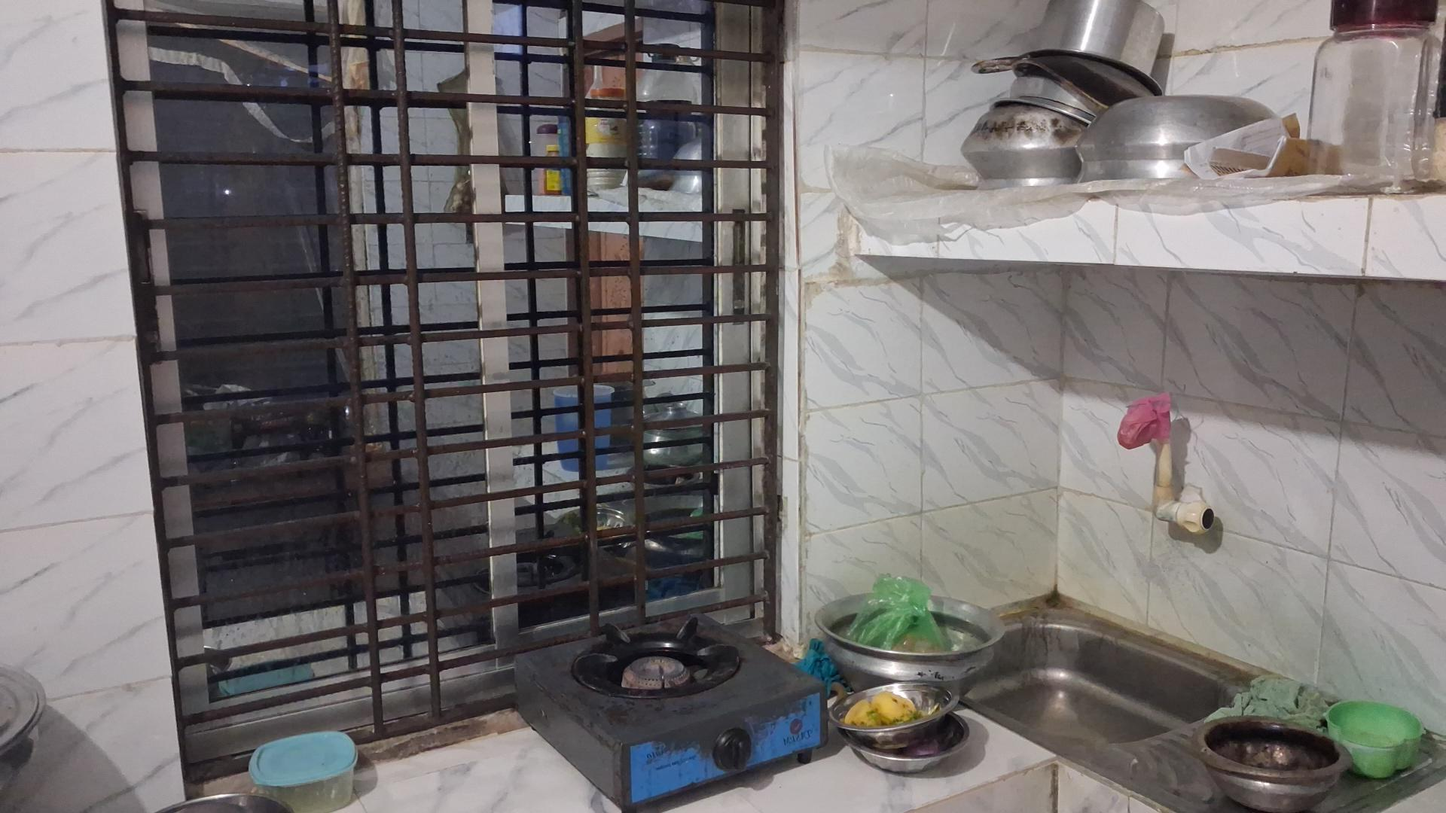Bowl: (1205, 712, 1344, 807), (831, 678, 972, 741), (844, 723, 969, 768)
Jar: (1304, 0, 1437, 186), (250, 728, 358, 811), (1327, 693, 1426, 783)
Pot: (813, 587, 1007, 694), (1083, 96, 1285, 178), (1030, 0, 1168, 96), (959, 112, 1086, 188)
